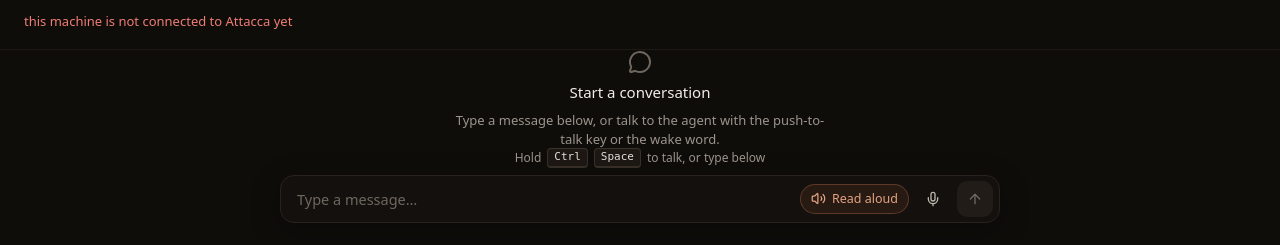
Test: the Conversation screen › says when a typed message did not go
Type "Hi" into the field labelled "message".
click(546, 198); type("Hi")  # box [297,176,794,222]
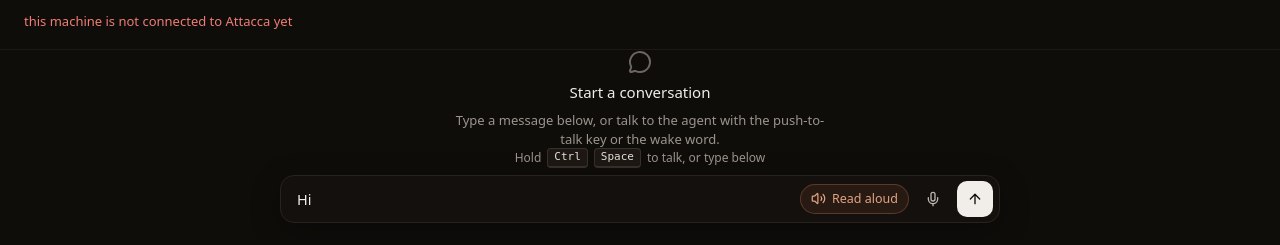
Click the button named "Send".
click(975, 198)  # box [957,180,993,216]
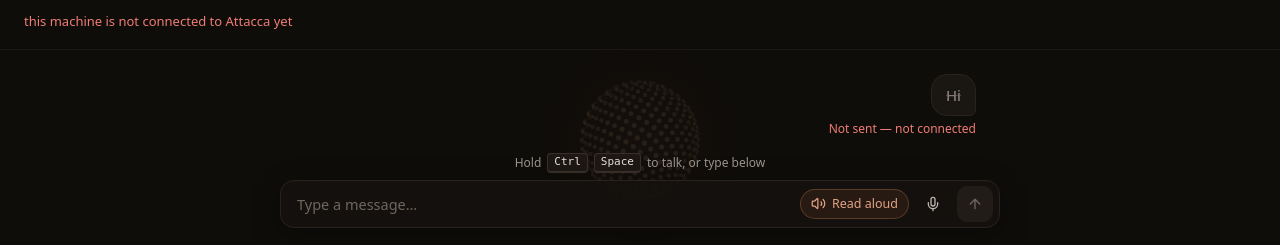
Expected: the text "Not sent — not connected" is shown, [829,120,976,138]
